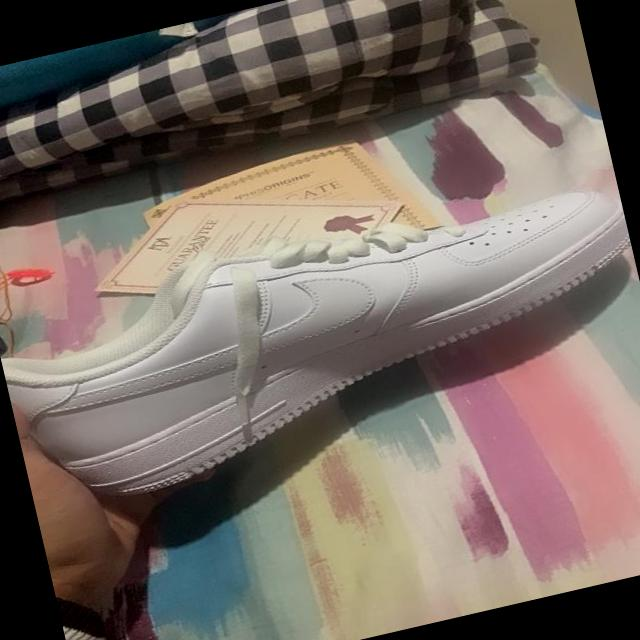nike_original_airforce: (0, 161, 640, 520)
